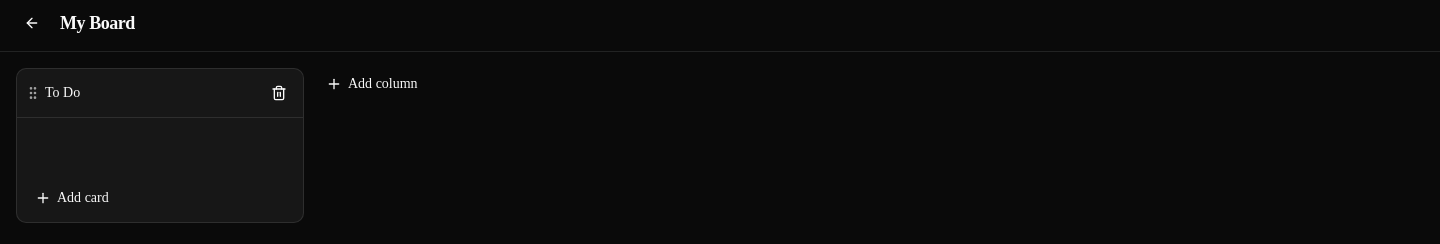
it: BoardCanvas › renames a column inline
Click the button "To Do" at (63, 93), box [45,83,80,103]
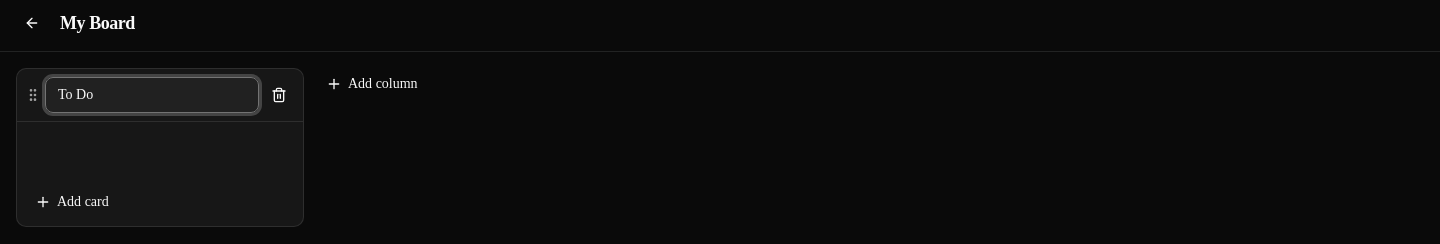
Replace the text in the field named "Column name" with "Doing" at (152, 95), box [45,77,259,113]
Then press Enter
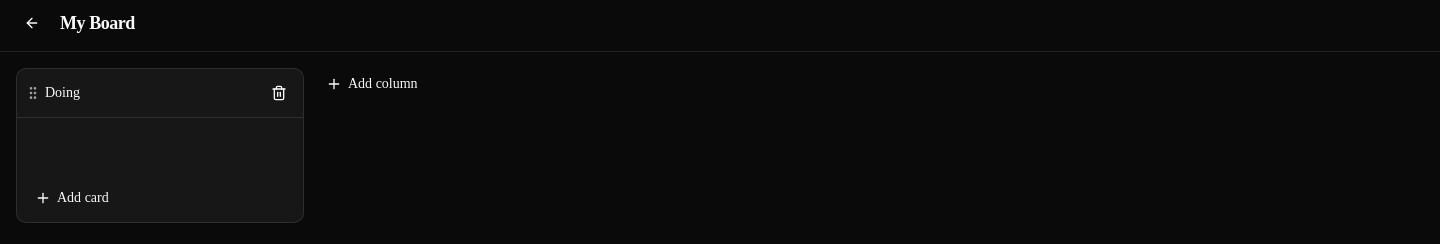
Result: the button "Doing" is shown at [45,83,80,103]
